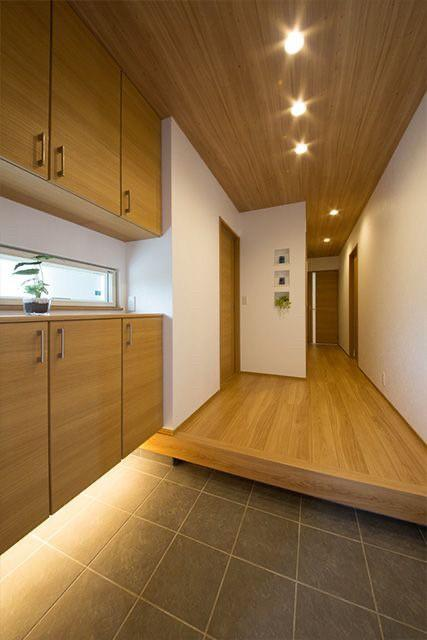floor: (0, 454, 426, 639)
safe: (174, 343, 426, 497)
